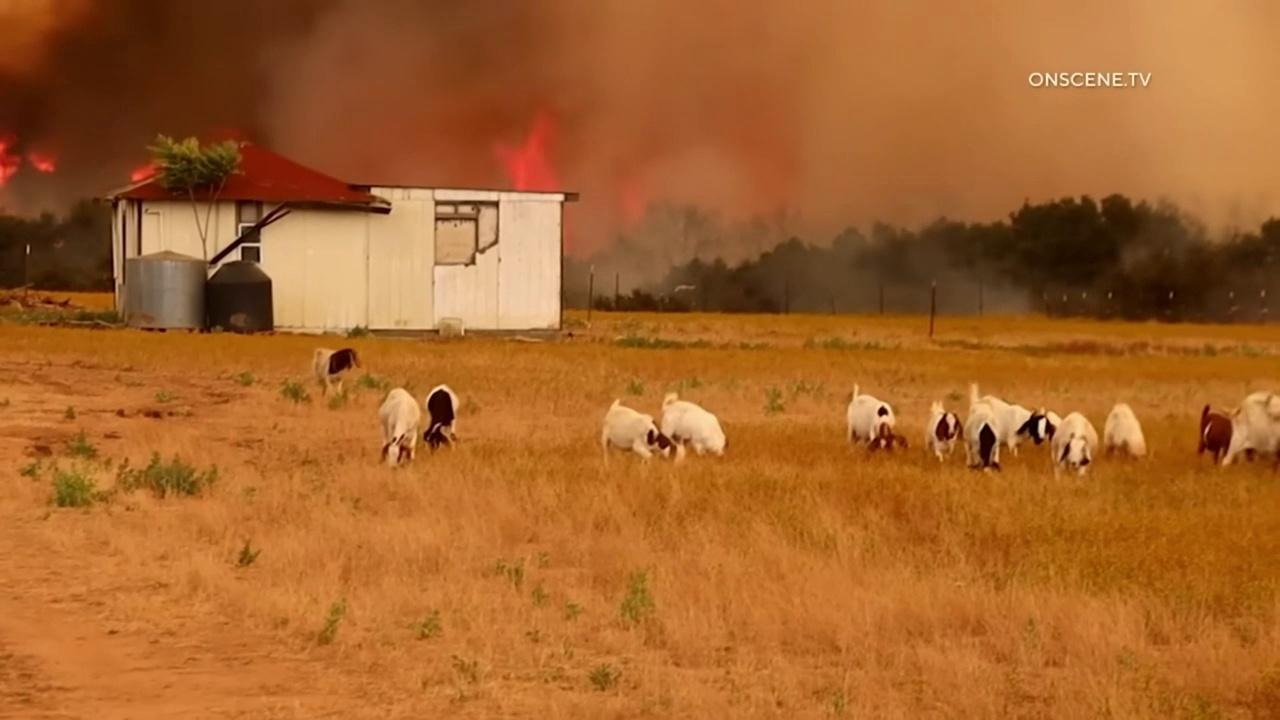fire: (492, 109, 564, 193), (0, 128, 57, 189), (129, 163, 157, 183)
smoke: (0, 0, 1280, 315)
